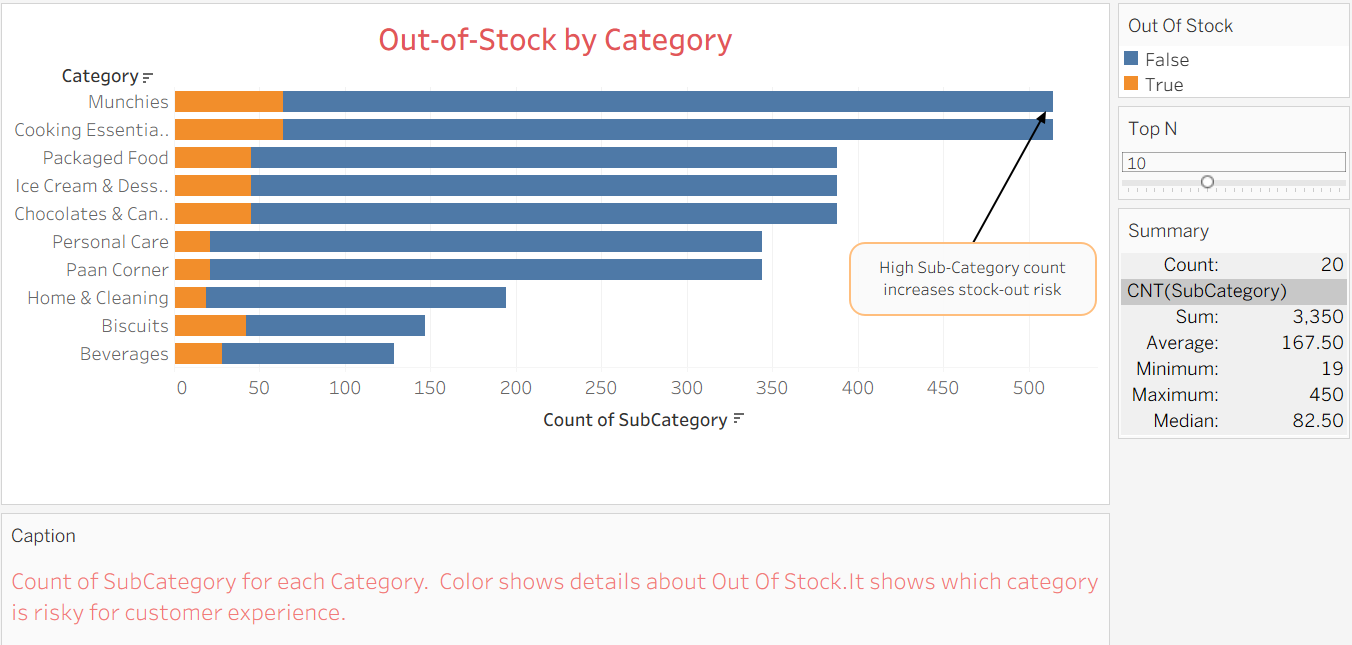

This screenshot's page, from the dashboard's own definition file:
{"tool":"tableau","page":{"name":"Dashboard 2","canvas":[1000,1000],"units":"permille","ordinal":1},"visuals":[{"type":"text","box":[5,10.7,890.3,92.4]},{"type":"legend","title":"Sheet 5","param":"[federated.0m5cgn01dddmoq1el1z6h03l7zhx].[none:Category:nk]","box":[895.3,10.7,99.8,514.7]},{"type":"worksheet","title":"Sheet 7","mark":"Automatic","rows":["quantity"],"cols":["Discount Percent (bin)"],"box":[5,103.1,445.1,451.1]},{"type":"worksheet","title":"Sheet 5","mark":"Automatic","rows":["discountedSellingPrice"],"cols":["mrp"],"box":[450.1,103.1,445.1,451.1]},{"type":"parameter","param":"[Parameters].[Parameter 1]","box":[895.3,525.5,99.8,111.3]},{"type":"worksheet","title":"Sheet 6","mark":"Automatic","rows":["Category"],"cols":["discountPercent"],"box":[5,554.2,890.3,435.1]}]}

Visuals, with their boxes on the dashboard's canvas, which has no fixed pixel size, in thousandths of its width and height (x1, y1, x2, y2). These are canvas units, not pixel positions in the 1352x645 screenshot, which may show the page scaled, cropped or inside an application window:
text: BBox(5, 11, 895, 103)
"Sheet 5" legend: BBox(895, 11, 995, 525)
"Sheet 7" worksheet: BBox(5, 103, 450, 554)
"Sheet 5" worksheet: BBox(450, 103, 895, 554)
parameter: BBox(895, 526, 995, 637)
"Sheet 6" worksheet: BBox(5, 554, 895, 989)
